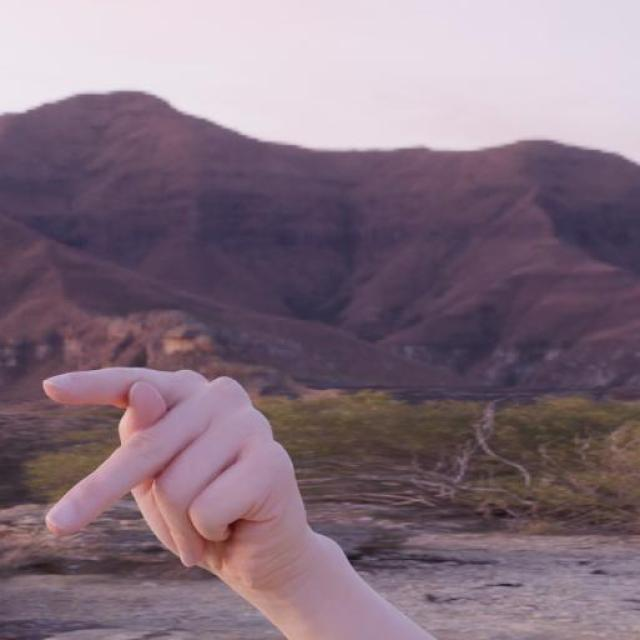P: (37, 363, 321, 612)
